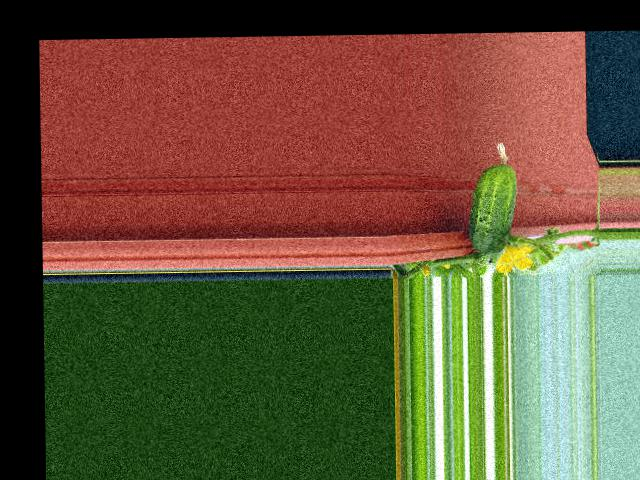cucumber: (468, 141, 518, 254)
